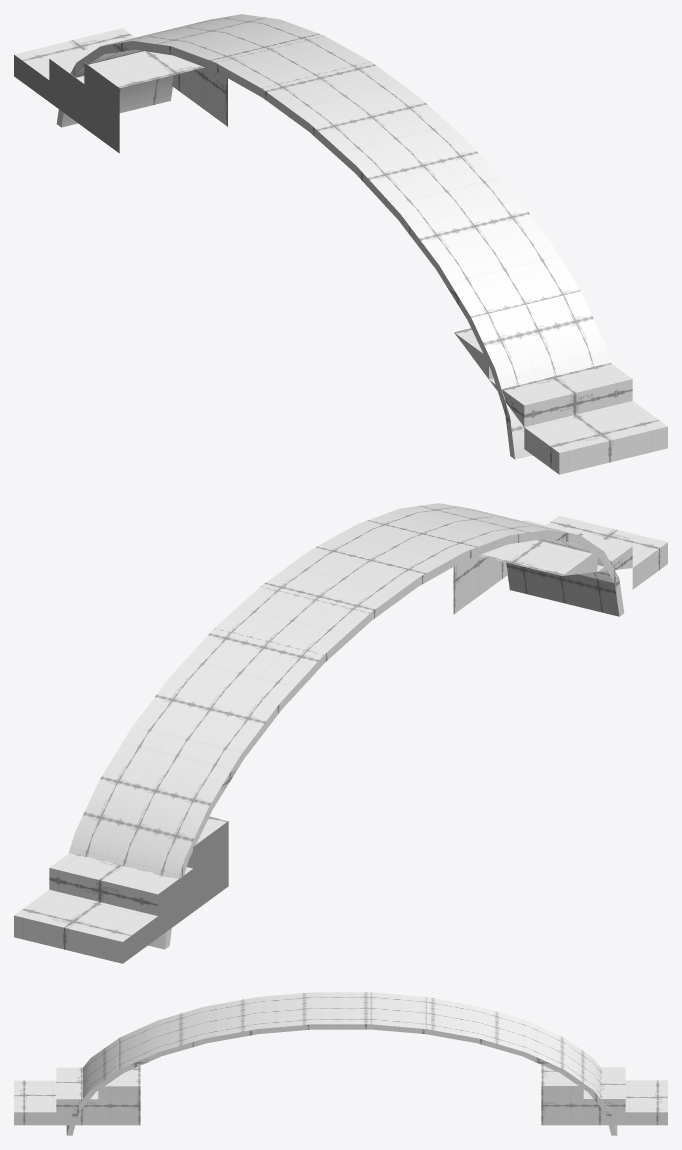
Rendered from Stairs.obj.
3 renders of one model, top to bottom at view 1: azimuth 30°, elevation 25°; view 2: azimuth 150°, elevation 25°; view 3: azimuth 270°, elevation 25°, orthographic. The views are drawn at different scales.
Visible parts, largest first — view 1: Stairs; view 2: Stairs; view 3: Stairs.
Boxes of the visible parts, box(x1,y1,x2,y2) form: Stairs: box(14, 14, 667, 474); Stairs: box(14, 503, 667, 963); Stairs: box(14, 992, 667, 1135).
Bounding box in the file's own units: 1.32 × 2.14 × 11.36.
